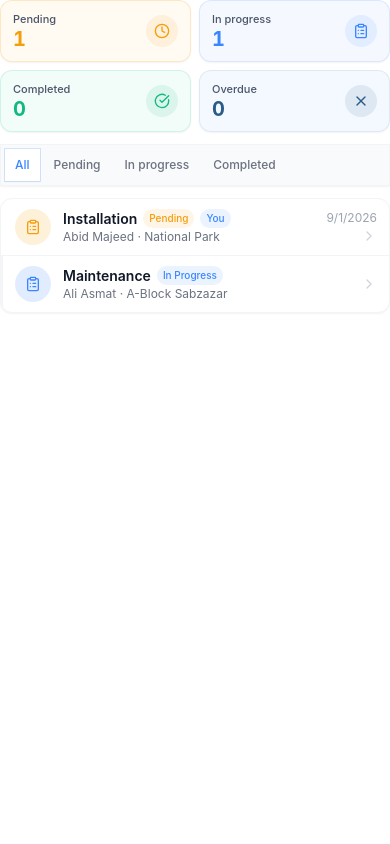
Test case: PortalTasks › hides update controls for view-only tasks
Step 1. Click the text "Maintenance" → (107, 276), box [63,266,151,286]
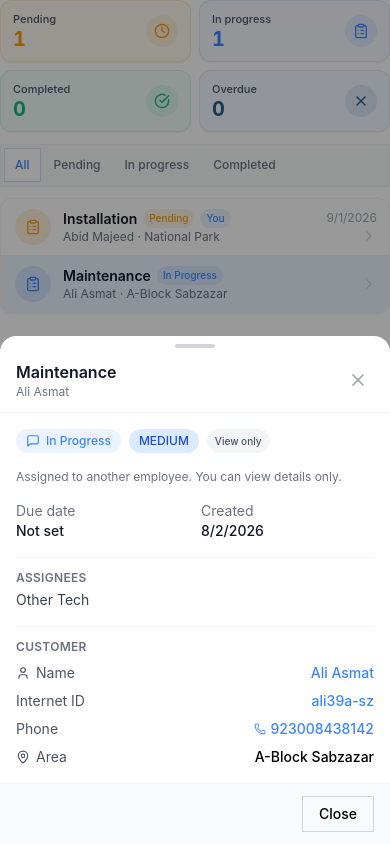
Check: the text "View only" is shown, box [207,429,270,453]
